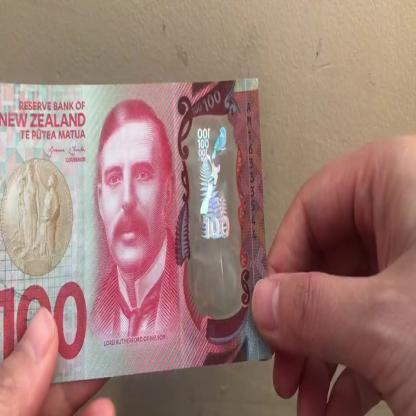100F: (192, 119, 234, 290)
